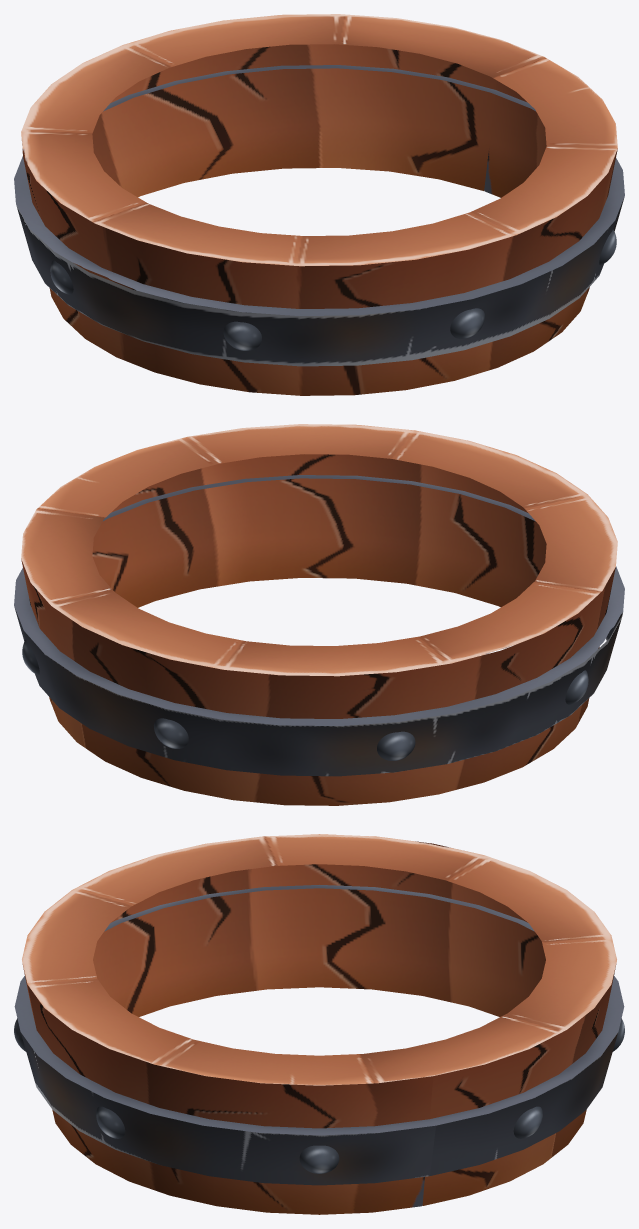
File: Flowerbed_2.fbx
3 renders of one model, top to bottom at view 1: azimuth 30°, elevation 25°; view 2: azimuth 150°, elevation 25°; view 3: azimuth 270°, elevation 25°, orthographic.
Parts seen in each view (by area): view 1: FlowerBed_2; view 2: FlowerBed_2; view 3: FlowerBed_2.
Part boxes in pixels (bbox=[...]): FlowerBed_2: bbox=[14, 14, 624, 395]; FlowerBed_2: bbox=[14, 424, 624, 805]; FlowerBed_2: bbox=[14, 834, 624, 1214].
Bounding box in the file's own units: 3.17 × 0.808 × 3.17.
